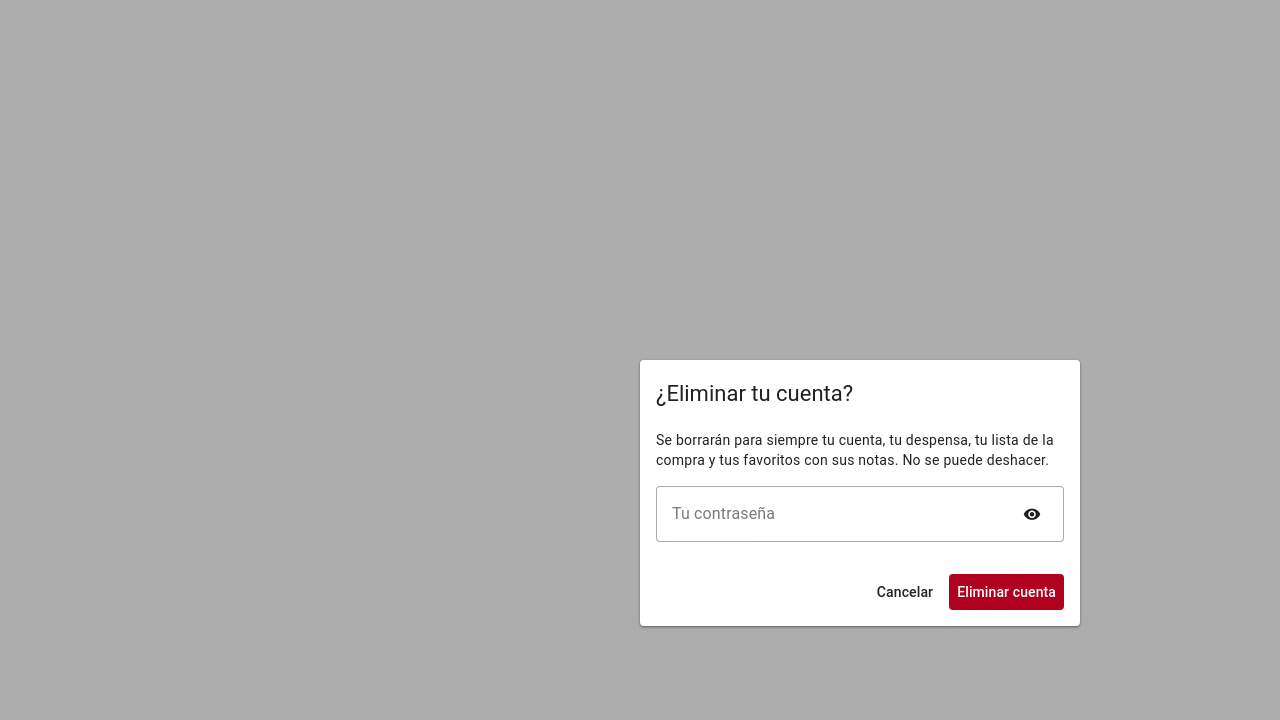
it: DeleteAccountDialog › si la contraseña es incorrecta muestra el error y conserva la sesión
This screenshot has width=1280, height=720.
Type "mala" into the password field labelled "Tu contraseña" at (834, 514), box 656,486 -> 1012,542
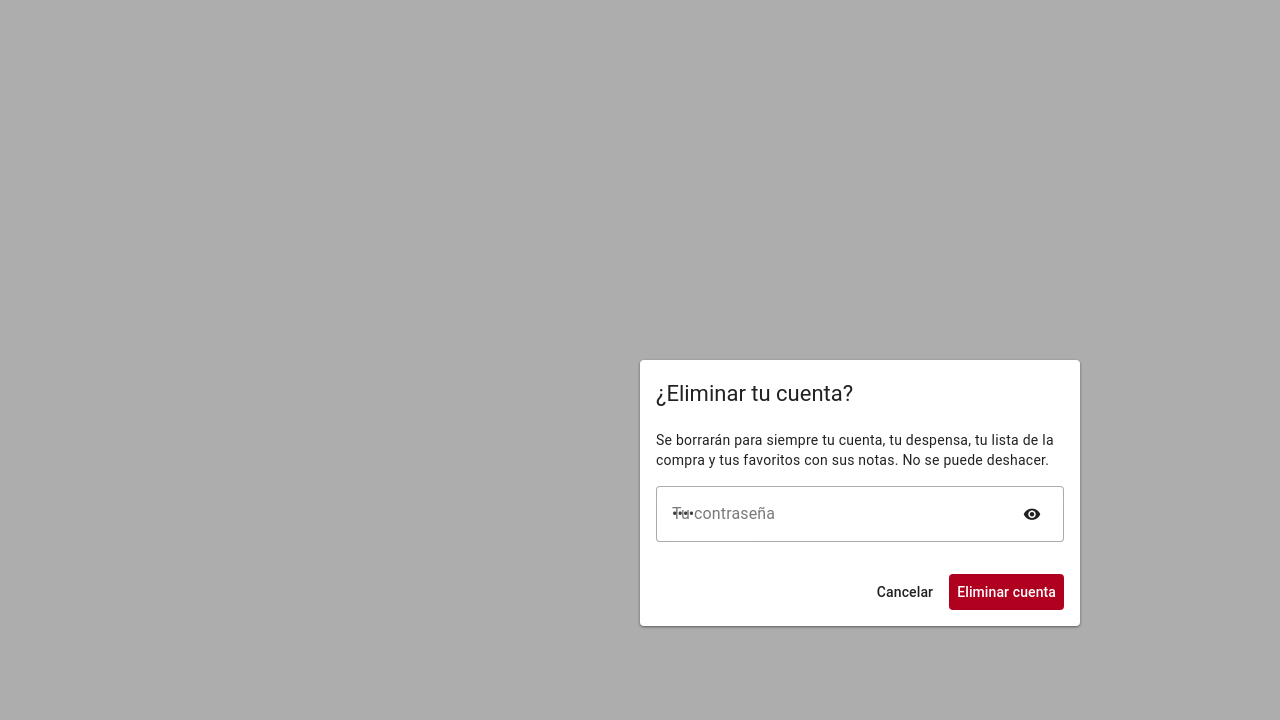
Click the button "Eliminar cuenta" at (1007, 592), box 949,574 -> 1064,610
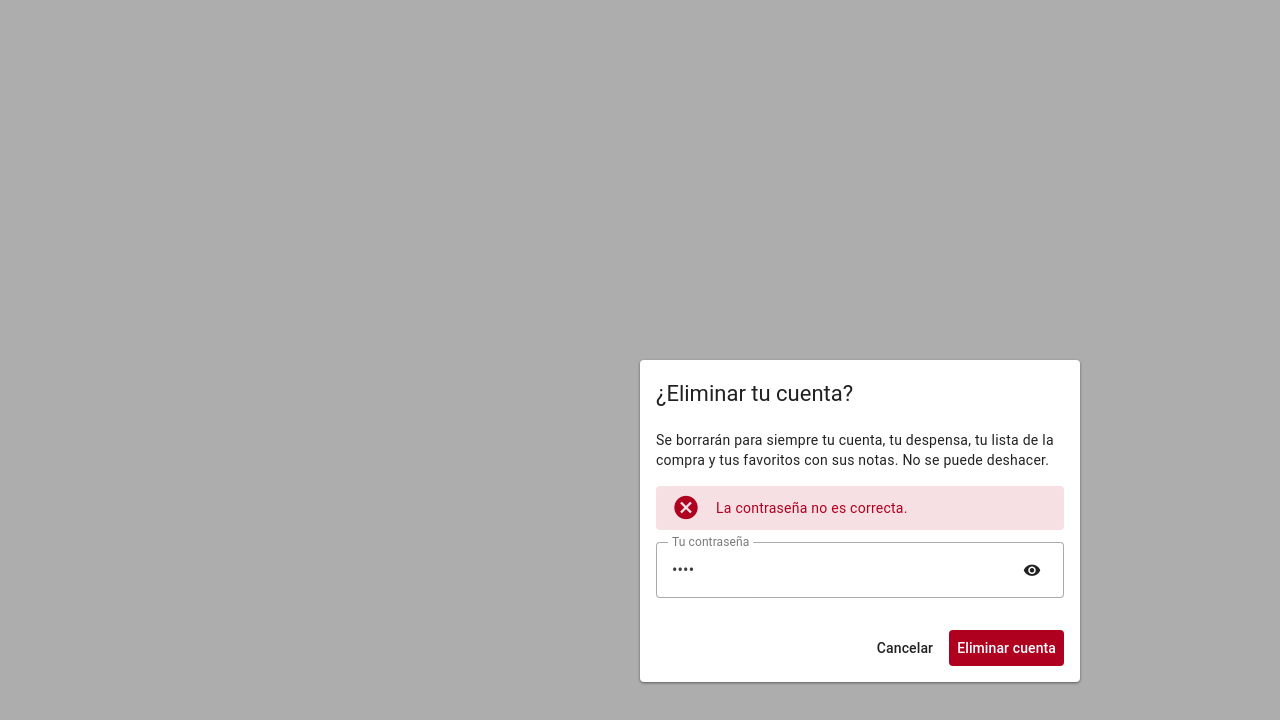
Now the text "La contraseña no es correcta." is shown, box 716,500 -> 908,516
